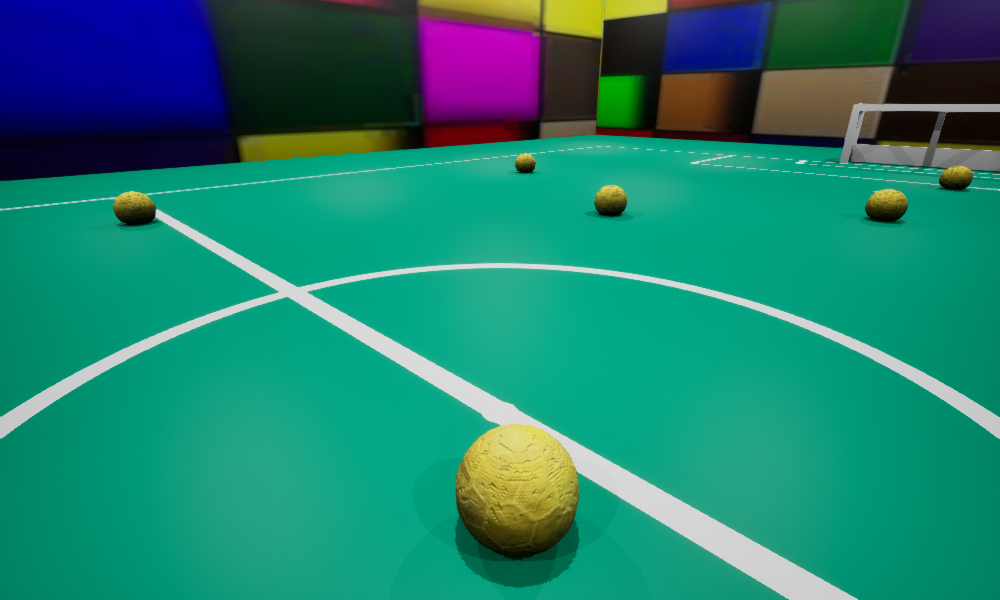b: (455, 424, 578, 556), (113, 191, 155, 224), (865, 189, 907, 221), (594, 185, 626, 215), (939, 166, 972, 188), (515, 153, 535, 172)
g: (839, 103, 999, 170)
